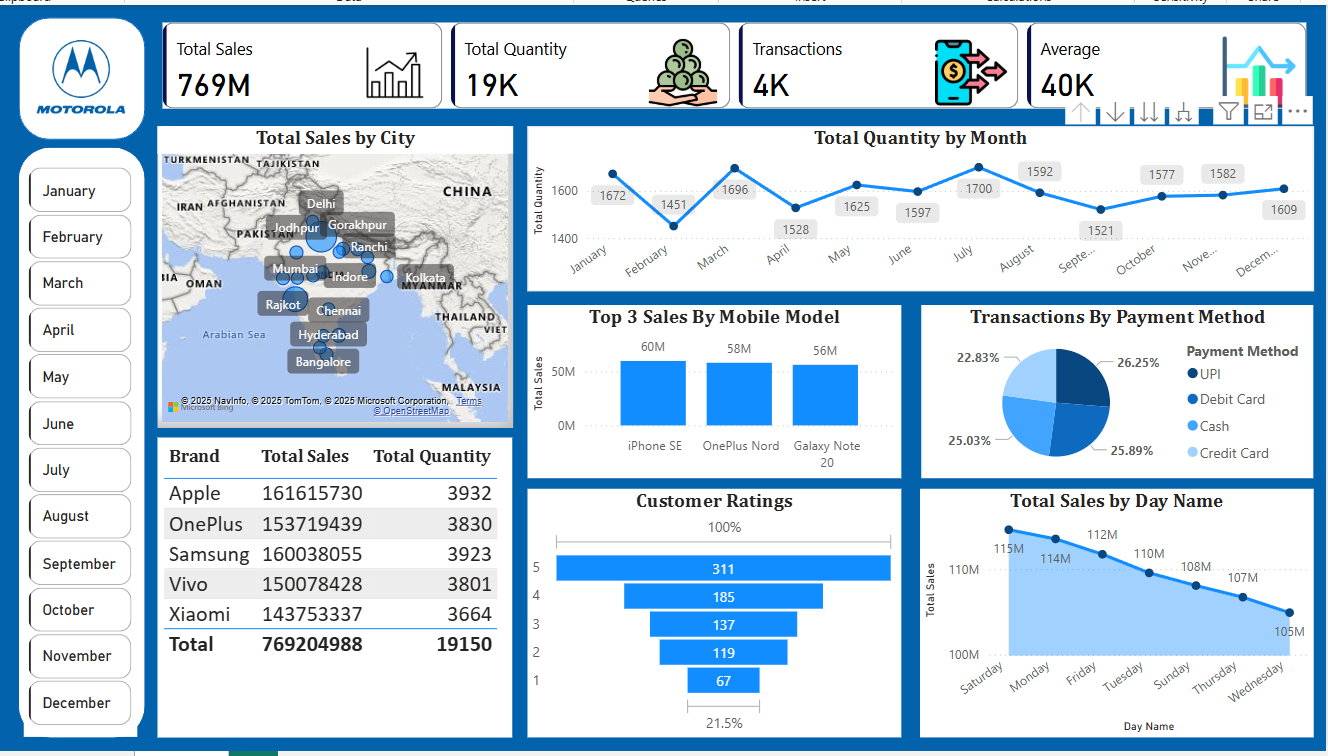

What the dashboard file says about the page in this screenshot:
{"tool":"powerbi","page":{"name":"Page 1","canvas":[1280,720],"ordinal":0},"visuals":[{"type":"shape","box":[17.8,12.3,122.1,118],"z":0},{"type":"image","box":[24.1,21.7,108.6,95.3],"z":1000},{"type":"shape","box":[18.1,137.5,121.9,569.4],"z":2000},{"type":"advancedSlicerVisual","fields":{"Values":["Mobile Sales Data.Date.Variation.Date Hierarchy.Month"]},"box":[23.3,152.3,109.8,554.4],"z":3000},{"type":"cardVisual","fields":{"Data":["Mobile Sales Data.Total Sales","Mobile Sales Data.Total Quantity","Mobile Sales Data.Transactions","Mobile Sales Data.Average"]},"box":[152.3,12.3,1115.6,93.3],"z":4000},{"type":"map","fields":{"Category":["Mobile Sales Data.City"],"Size":["Mobile Sales Data.Total Sales"]},"box":[152.3,116.6,343.1,290.9],"z":5000},{"type":"lineChart","fields":{"Y":["Mobile Sales Data.Total Quantity"],"Category":["Mobile Sales Data.Date.Variation.Date Hierarchy.Month","Mobile Sales Data.Date.Variation.Date Hierarchy.Day"]},"box":[509.1,116.6,758.8,159.2],"z":5001},{"type":"pieChart","title":"Transactions By Payment Method","fields":{"Y":["Mobile Sales Data.Transactions"],"Category":["Mobile Sales Data.Payment Method"]},"box":[889.2,289.5,378.7,167.4],"z":5002},{"type":"columnChart","title":"Top 3 Sales By Mobile Model","fields":{"Category":["Mobile Sales Data.Mobile Model"],"Y":["Mobile Sales Data.Total Sales"]},"box":[509.1,289.5,360.9,167.4],"z":5003},{"type":"funnel","title":"Customer Ratings","fields":{"Category":["Mobile Sales Data.Customer Ratings"],"Y":["CountNonNull(Mobile Sales Data.Customer Ratings)"]},"box":[509.1,466.9,360.7,240.1],"z":5004},{"type":"areaChart","fields":{"Y":["Mobile Sales Data.Total Sales"],"Category":["Mobile Sales Data.Day Name"]},"box":[887.9,466.9,380,240.1],"z":5005},{"type":"tableEx","fields":{"Values":["Mobile Sales Data.Brand","Mobile Sales Data.Total Sales","Mobile Sales Data.Total Quantity"]},"box":[152,417.4,342.6,289.5],"z":5006}]}

Visuals, with their boxes in screenshot pixels (x1, y1, x2, y2):
shape: {"left": 15, "top": 6, "right": 145, "bottom": 131}
image: {"left": 22, "top": 16, "right": 137, "bottom": 117}
shape: {"left": 16, "top": 139, "right": 145, "bottom": 743}
advancedSlicerVisual - Mobile Sales Data.Date.Variation.Date Hierarchy.Month: {"left": 21, "top": 155, "right": 138, "bottom": 743}
cardVisual - Mobile Sales Data.Total Sales x Mobile Sales Data.Total Quantity: {"left": 158, "top": 6, "right": 1327, "bottom": 105}
map - Mobile Sales Data.City x Mobile Sales Data.Total Sales: {"left": 158, "top": 117, "right": 522, "bottom": 425}
lineChart - Mobile Sales Data.Total Quantity x Mobile Sales Data.Date.Variation.Date Hierarchy.Month: {"left": 537, "top": 117, "right": 1327, "bottom": 286}
"Transactions By Payment Method" pieChart: {"left": 940, "top": 300, "right": 1327, "bottom": 478}
"Top 3 Sales By Mobile Model" columnChart: {"left": 537, "top": 300, "right": 919, "bottom": 478}
"Customer Ratings" funnel: {"left": 537, "top": 488, "right": 919, "bottom": 743}
areaChart - Mobile Sales Data.Total Sales x Mobile Sales Data.Day Name: {"left": 938, "top": 488, "right": 1327, "bottom": 743}
tableEx - Mobile Sales Data.Brand x Mobile Sales Data.Total Sales: {"left": 158, "top": 436, "right": 521, "bottom": 743}
